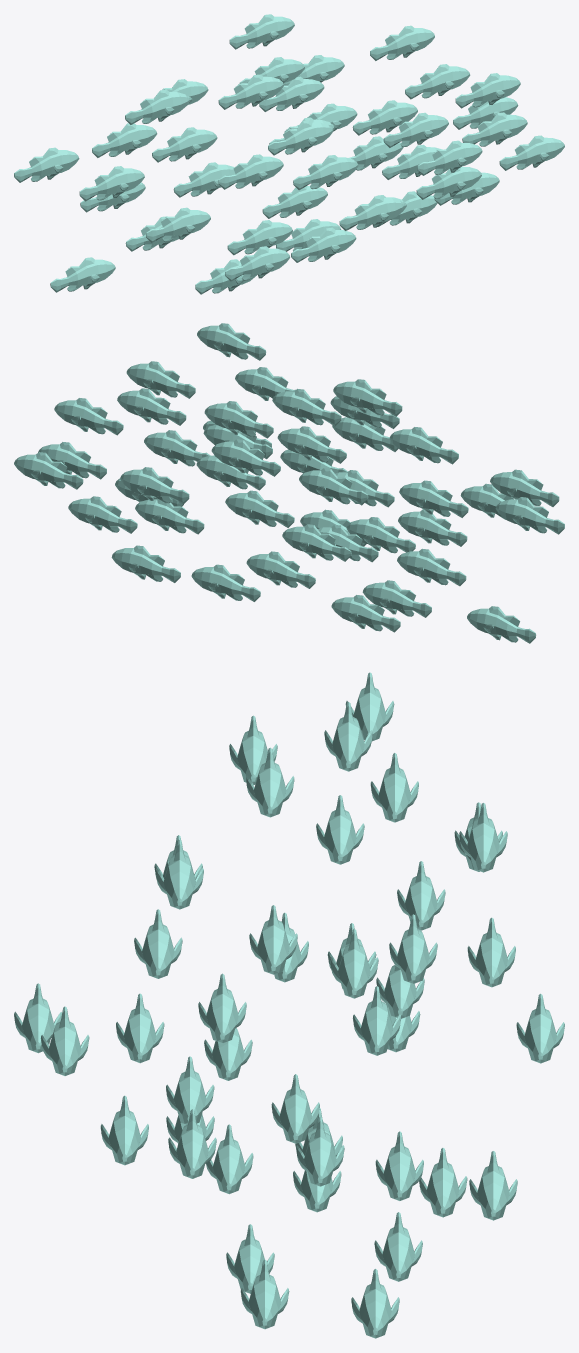
The model's file is Poisson gang.fbx.
The picture shows the model from 3 angles, top to bottom: view 1: azimuth 30°, elevation 25°; view 2: azimuth 150°, elevation 25°; view 3: azimuth 270°, elevation 25°; orthographic projection. The views are drawn at different scales.
Visible parts, largest first — view 1: Cube.003, Cube.016, Cube.010, Cube.017, Cube.030, Cube.023, Cube.029, Cube.032, Cube.033, Cube.028, Cube.036, Cube.038 (+29 smaller); view 2: Cube.016, Cube.005, Cube.018, Cube.013, Cube.030, Cube.042, Cube.033, Cube.041, Cube.010, Cube.026, Cube.011, Cube.024 (+29 smaller); view 3: Cube.004, Cube.016, Cube.037, Cube.003, Cube.005, Cube.006, Cube.009, Cube.018, Cube.023, Cube.033, Cube.001, Cube.012 (+25 smaller).
Boxes of the visible parts, x1,y1,x2,y2 form: Cube.003: [268, 120, 333, 155]; Cube.016: [152, 127, 217, 162]; Cube.010: [229, 14, 294, 49]; Cube.017: [218, 154, 283, 189]; Cube.030: [50, 257, 115, 292]; Cube.023: [225, 246, 289, 281]; Cube.029: [79, 166, 144, 201]; Cube.032: [339, 195, 404, 230]; Cube.033: [405, 64, 470, 99]; Cube.028: [455, 73, 520, 108]; Cube.036: [417, 140, 482, 175]; Cube.038: [291, 227, 356, 262]; Cube.016: [282, 524, 351, 561]; Cube.005: [333, 379, 402, 416]; Cube.018: [120, 467, 189, 504]; Cube.013: [68, 496, 137, 533]; Cube.030: [467, 606, 536, 643]; Cube.042: [14, 452, 83, 489]; Cube.033: [197, 323, 266, 360]; Cube.041: [117, 388, 186, 425]; Cube.010: [204, 401, 273, 438]; Cube.026: [126, 361, 195, 398]; Cube.011: [299, 468, 368, 505]; Cube.024: [362, 580, 431, 617]; Cube.004: [316, 795, 364, 864]; Cube.016: [467, 917, 515, 987]; Cube.037: [100, 1095, 148, 1165]; Cube.003: [155, 840, 203, 909]; Cube.005: [246, 747, 294, 817]; Cube.006: [352, 986, 401, 1055]; Cube.009: [375, 1131, 423, 1200]; Cube.018: [516, 993, 564, 1063]; Cube.023: [116, 993, 164, 1063]; Cube.033: [134, 909, 182, 978]; Cube.001: [249, 905, 297, 974]; Cube.012: [324, 702, 372, 771].
Size of the model in its own units: 3627 by 1502 by 1711.
